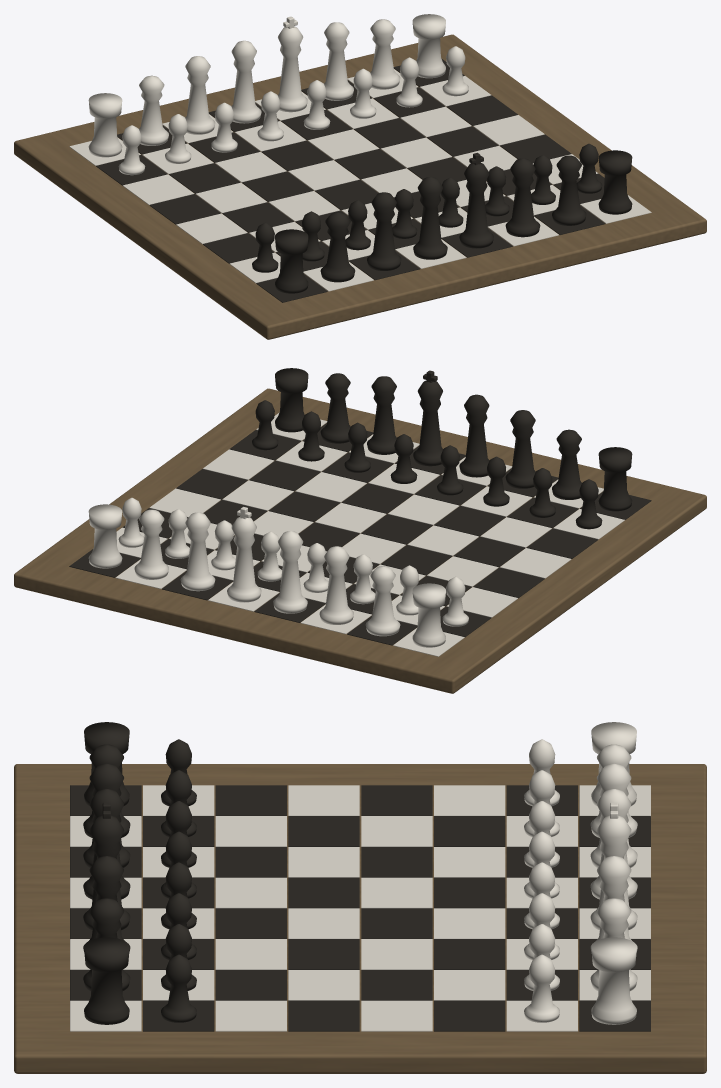
Rendered from result.glb.
3 renders of one model, top to bottom at view 1: azimuth 30°, elevation 25°; view 2: azimuth 150°, elevation 25°; view 3: azimuth 270°, elevation 25°, orthographic. The views are drawn at different scales.
Visible parts, largest first — view 1: Board, king -1 4, queen -1 3, rook -1 7, rook -1 0, rook 1 0, king 1 4, queen 1 3, bishop -1 5, bishop -1 2, rook 1 7, bishop 1 5 (+64 smaller); view 2: Board, king 1 4, queen 1 3, rook 1 7, rook 1 0, rook -1 0, king -1 4, queen -1 3, bishop 1 5, bishop 1 2, rook -1 7, bishop -1 5 (+64 smaller); view 3: Board, rook -1 7, rook 1 7, Square 3 3, Square 3 4, Square 7 3, Square 7 4, Square 7 2, Square 7 5, Square 3 2, Square 3 5, Square 0 2 (+85 smaller).
Part boxes in pixels (x1,y1,x2,y2): Board: (14, 34, 706, 339); king -1 4: (459, 163, 493, 248); queen -1 3: (413, 177, 447, 259); rook -1 7: (598, 150, 632, 214); rook -1 0: (275, 229, 308, 293); rook 1 0: (88, 93, 122, 157); king 1 4: (277, 26, 307, 112); queen 1 3: (231, 40, 261, 123); bishop -1 5: (505, 158, 540, 237); bishop -1 2: (367, 192, 401, 270); rook 1 7: (412, 14, 445, 78); bishop 1 5: (324, 22, 353, 100); Board: (14, 388, 706, 693); king 1 4: (227, 517, 261, 602); queen 1 3: (273, 531, 307, 613); rook 1 7: (88, 504, 122, 568); rook 1 0: (412, 583, 445, 647); rook -1 0: (598, 447, 632, 511); king -1 4: (413, 380, 443, 466); queen -1 3: (459, 394, 489, 477); bishop 1 5: (180, 512, 215, 591); bishop 1 2: (319, 546, 353, 624); rook -1 7: (275, 368, 308, 432); bishop -1 5: (367, 376, 396, 454); Board: (14, 764, 706, 1073); rook -1 7: (84, 937, 129, 1024); rook 1 7: (591, 937, 636, 1024); Square 3 3: (288, 877, 359, 908); Square 3 4: (361, 877, 432, 908); Square 7 3: (288, 1000, 359, 1031); Square 7 4: (361, 1000, 432, 1031); Square 7 2: (215, 1000, 286, 1031); Square 7 5: (434, 1000, 505, 1031); Square 3 2: (215, 877, 286, 908); Square 3 5: (434, 877, 505, 908); Square 0 2: (215, 785, 286, 815).
Bounding box in the file's own units: 1 × 0.223 × 1.
Materials: 101 (101 with a texture image).
